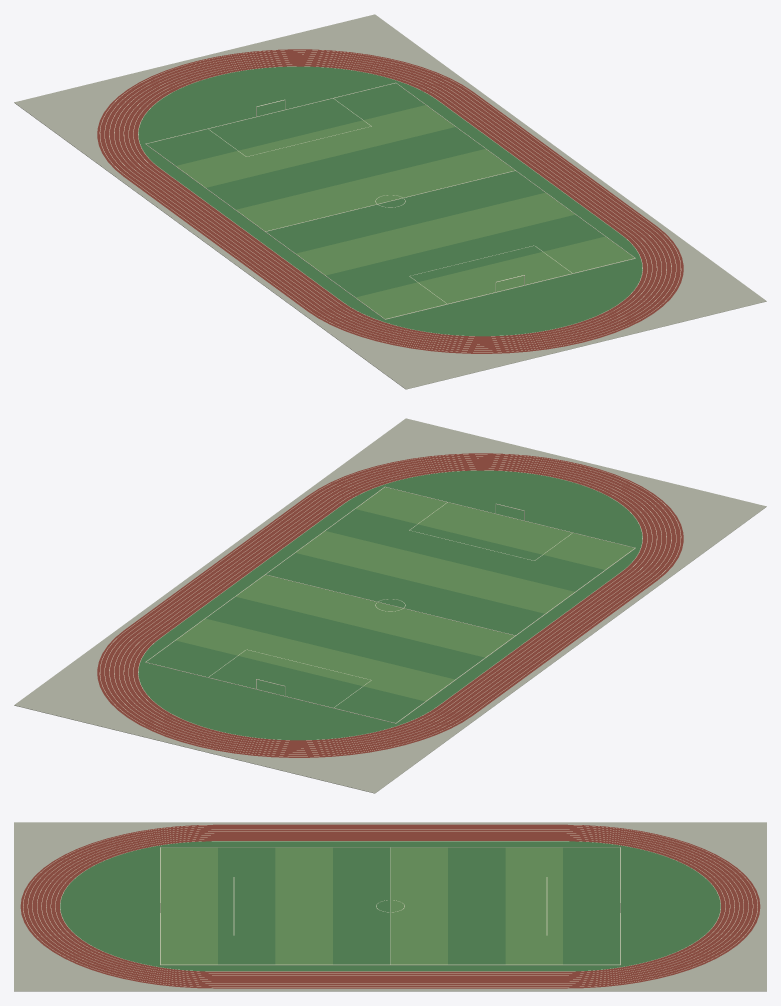
File: track_B.glb
3 views of the same model, one above another, from view 1: azimuth 30°, elevation 25°; view 2: azimuth 150°, elevation 25°; view 3: azimuth 270°, elevation 25° (orthographic). The views are drawn at different scales.
Visible parts, largest first — view 1: FootballTurfStripes, RunningTrack, OvalGrass, PavedSurround, TrackLaneMarks, FootballPitch; view 2: FootballTurfStripes, RunningTrack, OvalGrass, PavedSurround, TrackLaneMarks, FootballPitch; view 3: FootballTurfStripes, RunningTrack, OvalGrass, PavedSurround, TrackLaneMarks, FootballPitch.
Part boxes in pixels (box(x1,y1,x2,y2)): FootballTurfStripes: box(146, 83, 634, 318); RunningTrack: box(97, 49, 683, 353); OvalGrass: box(138, 66, 642, 336); PavedSurround: box(14, 14, 766, 389); TrackLaneMarks: box(99, 50, 681, 352); FootballPitch: box(145, 82, 635, 319); FootballTurfStripes: box(146, 487, 634, 722); RunningTrack: box(97, 453, 683, 757); OvalGrass: box(138, 470, 642, 740); PavedSurround: box(14, 418, 766, 793); TrackLaneMarks: box(99, 454, 681, 756); FootballPitch: box(145, 486, 635, 723); FootballTurfStripes: box(160, 847, 620, 964); RunningTrack: box(20, 824, 760, 988); OvalGrass: box(60, 841, 720, 971); PavedSurround: box(14, 822, 766, 991); TrackLaneMarks: box(23, 825, 757, 987); FootballPitch: box(160, 847, 620, 965).
Size of the model in its own units: 91.38 by 2.75 by 172.
